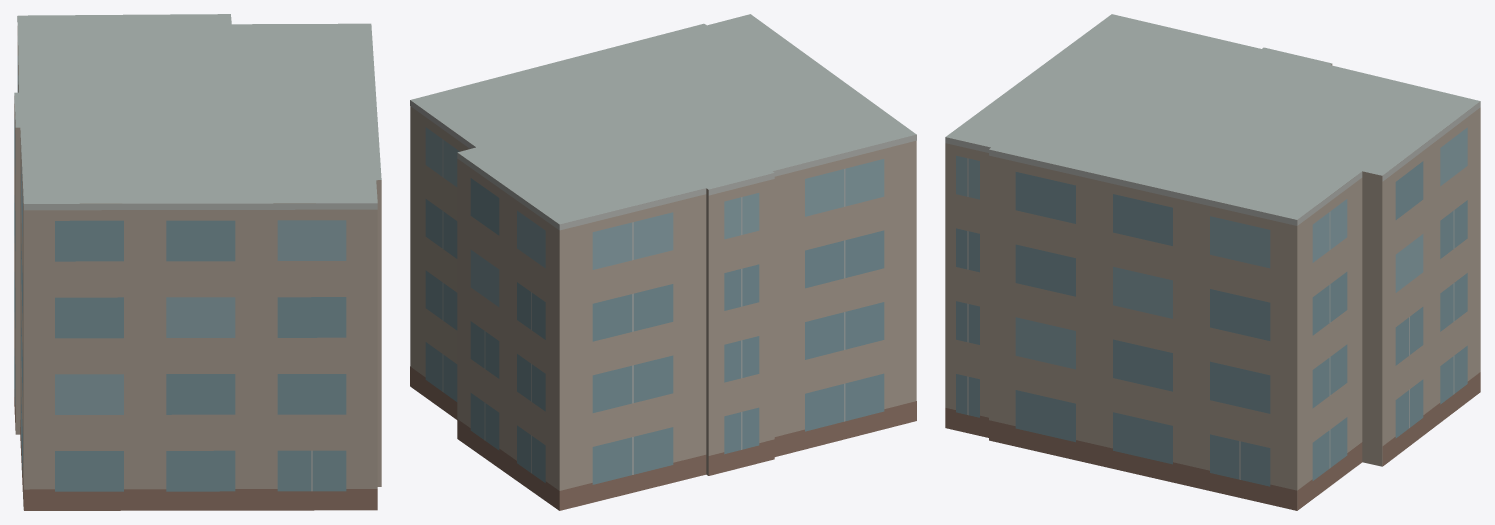
Rendered from survey-upis-32742521.glb.
The picture shows the model from 3 angles, left to right: view 1: azimuth 30°, elevation 25°; view 2: azimuth 150°, elevation 25°; view 3: azimuth 270°, elevation 25°; orthographic projection. The views are drawn at different scales.
Parts seen in each view (by area): view 1: survey-upis-32742521.tmp; view 2: survey-upis-32742521.tmp; view 3: survey-upis-32742521.tmp.
Boxes of the visible parts, x1,y1,x2,y2 form: survey-upis-32742521.tmp: (14, 14, 381, 510); survey-upis-32742521.tmp: (410, 14, 916, 510); survey-upis-32742521.tmp: (945, 14, 1480, 510).
Bounding box in the file's own units: 17.77 × 11.7 × 19.52.
